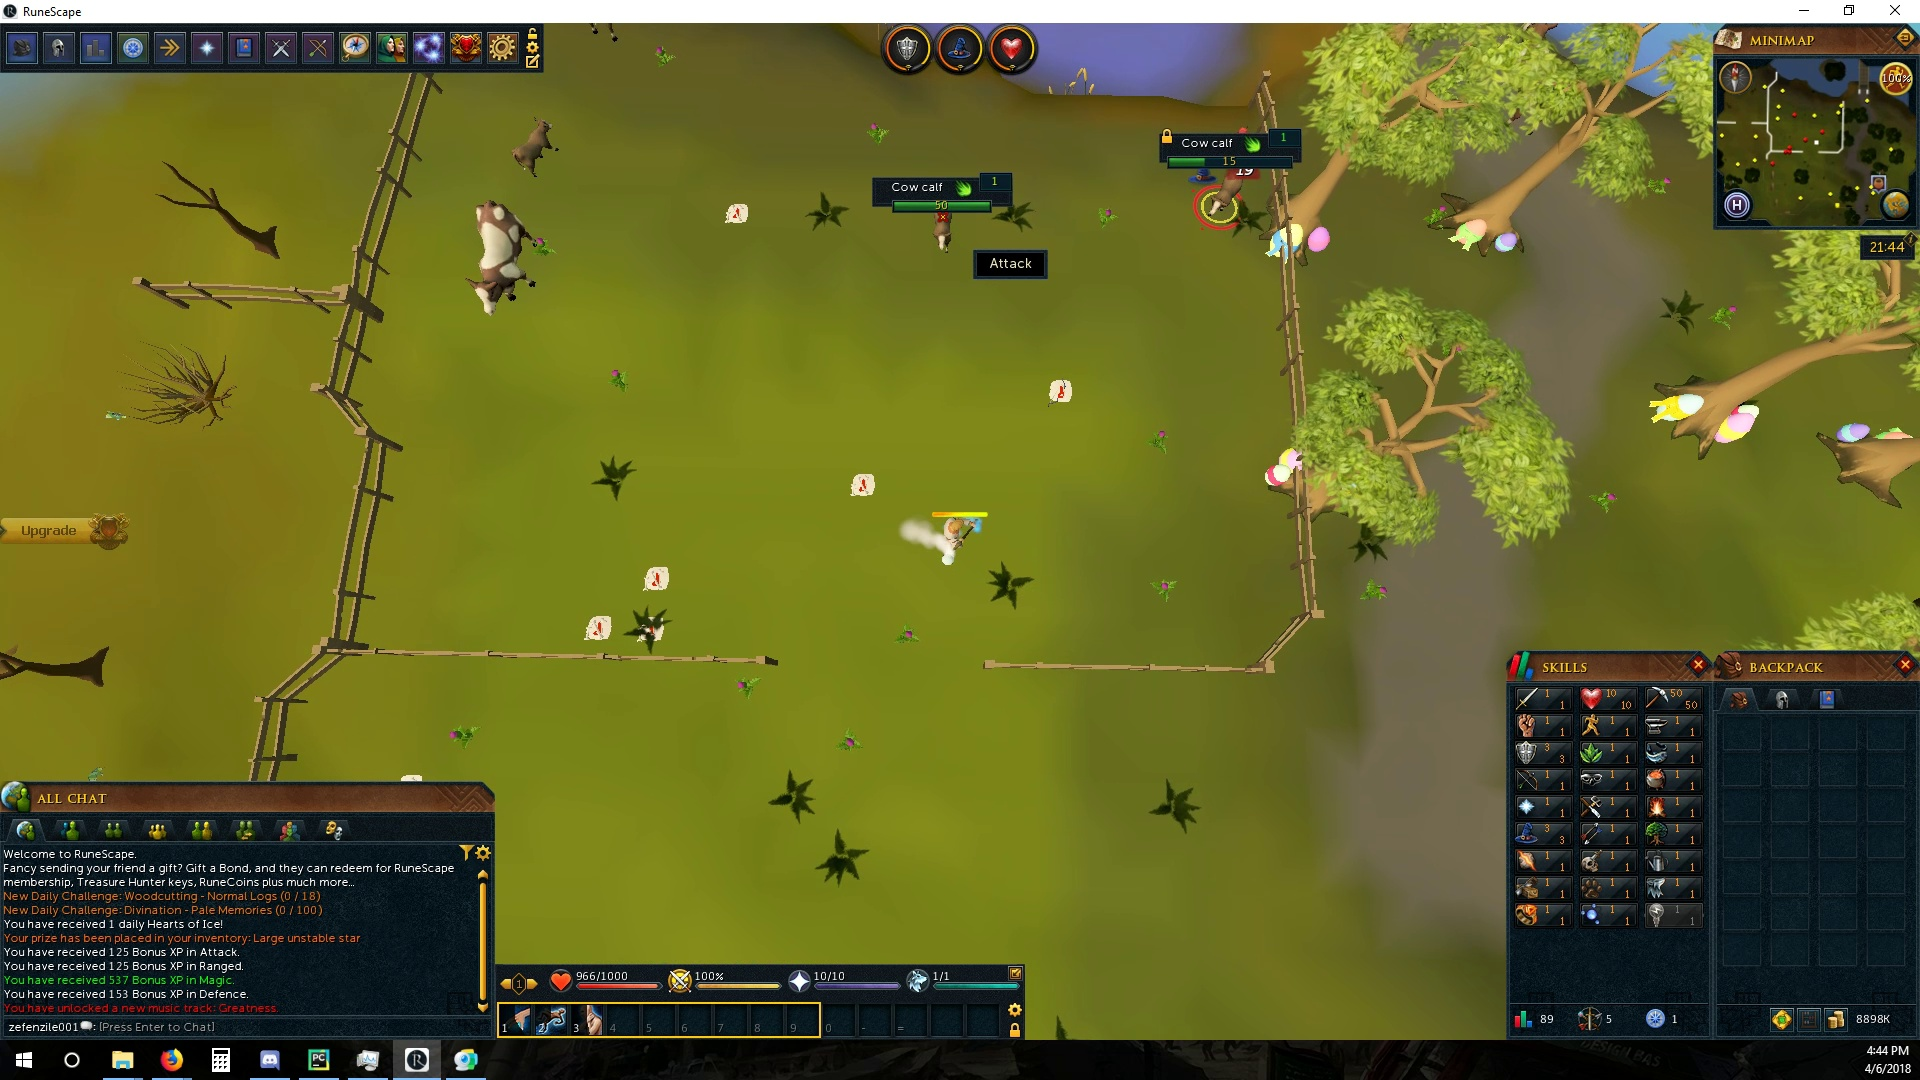calf: (512, 117, 560, 181), (1205, 169, 1249, 218), (932, 215, 955, 253)
cow: (465, 198, 541, 323)
cow_drop: (640, 560, 671, 593), (1043, 375, 1075, 407), (847, 469, 880, 500), (580, 612, 613, 640), (717, 200, 753, 224)
